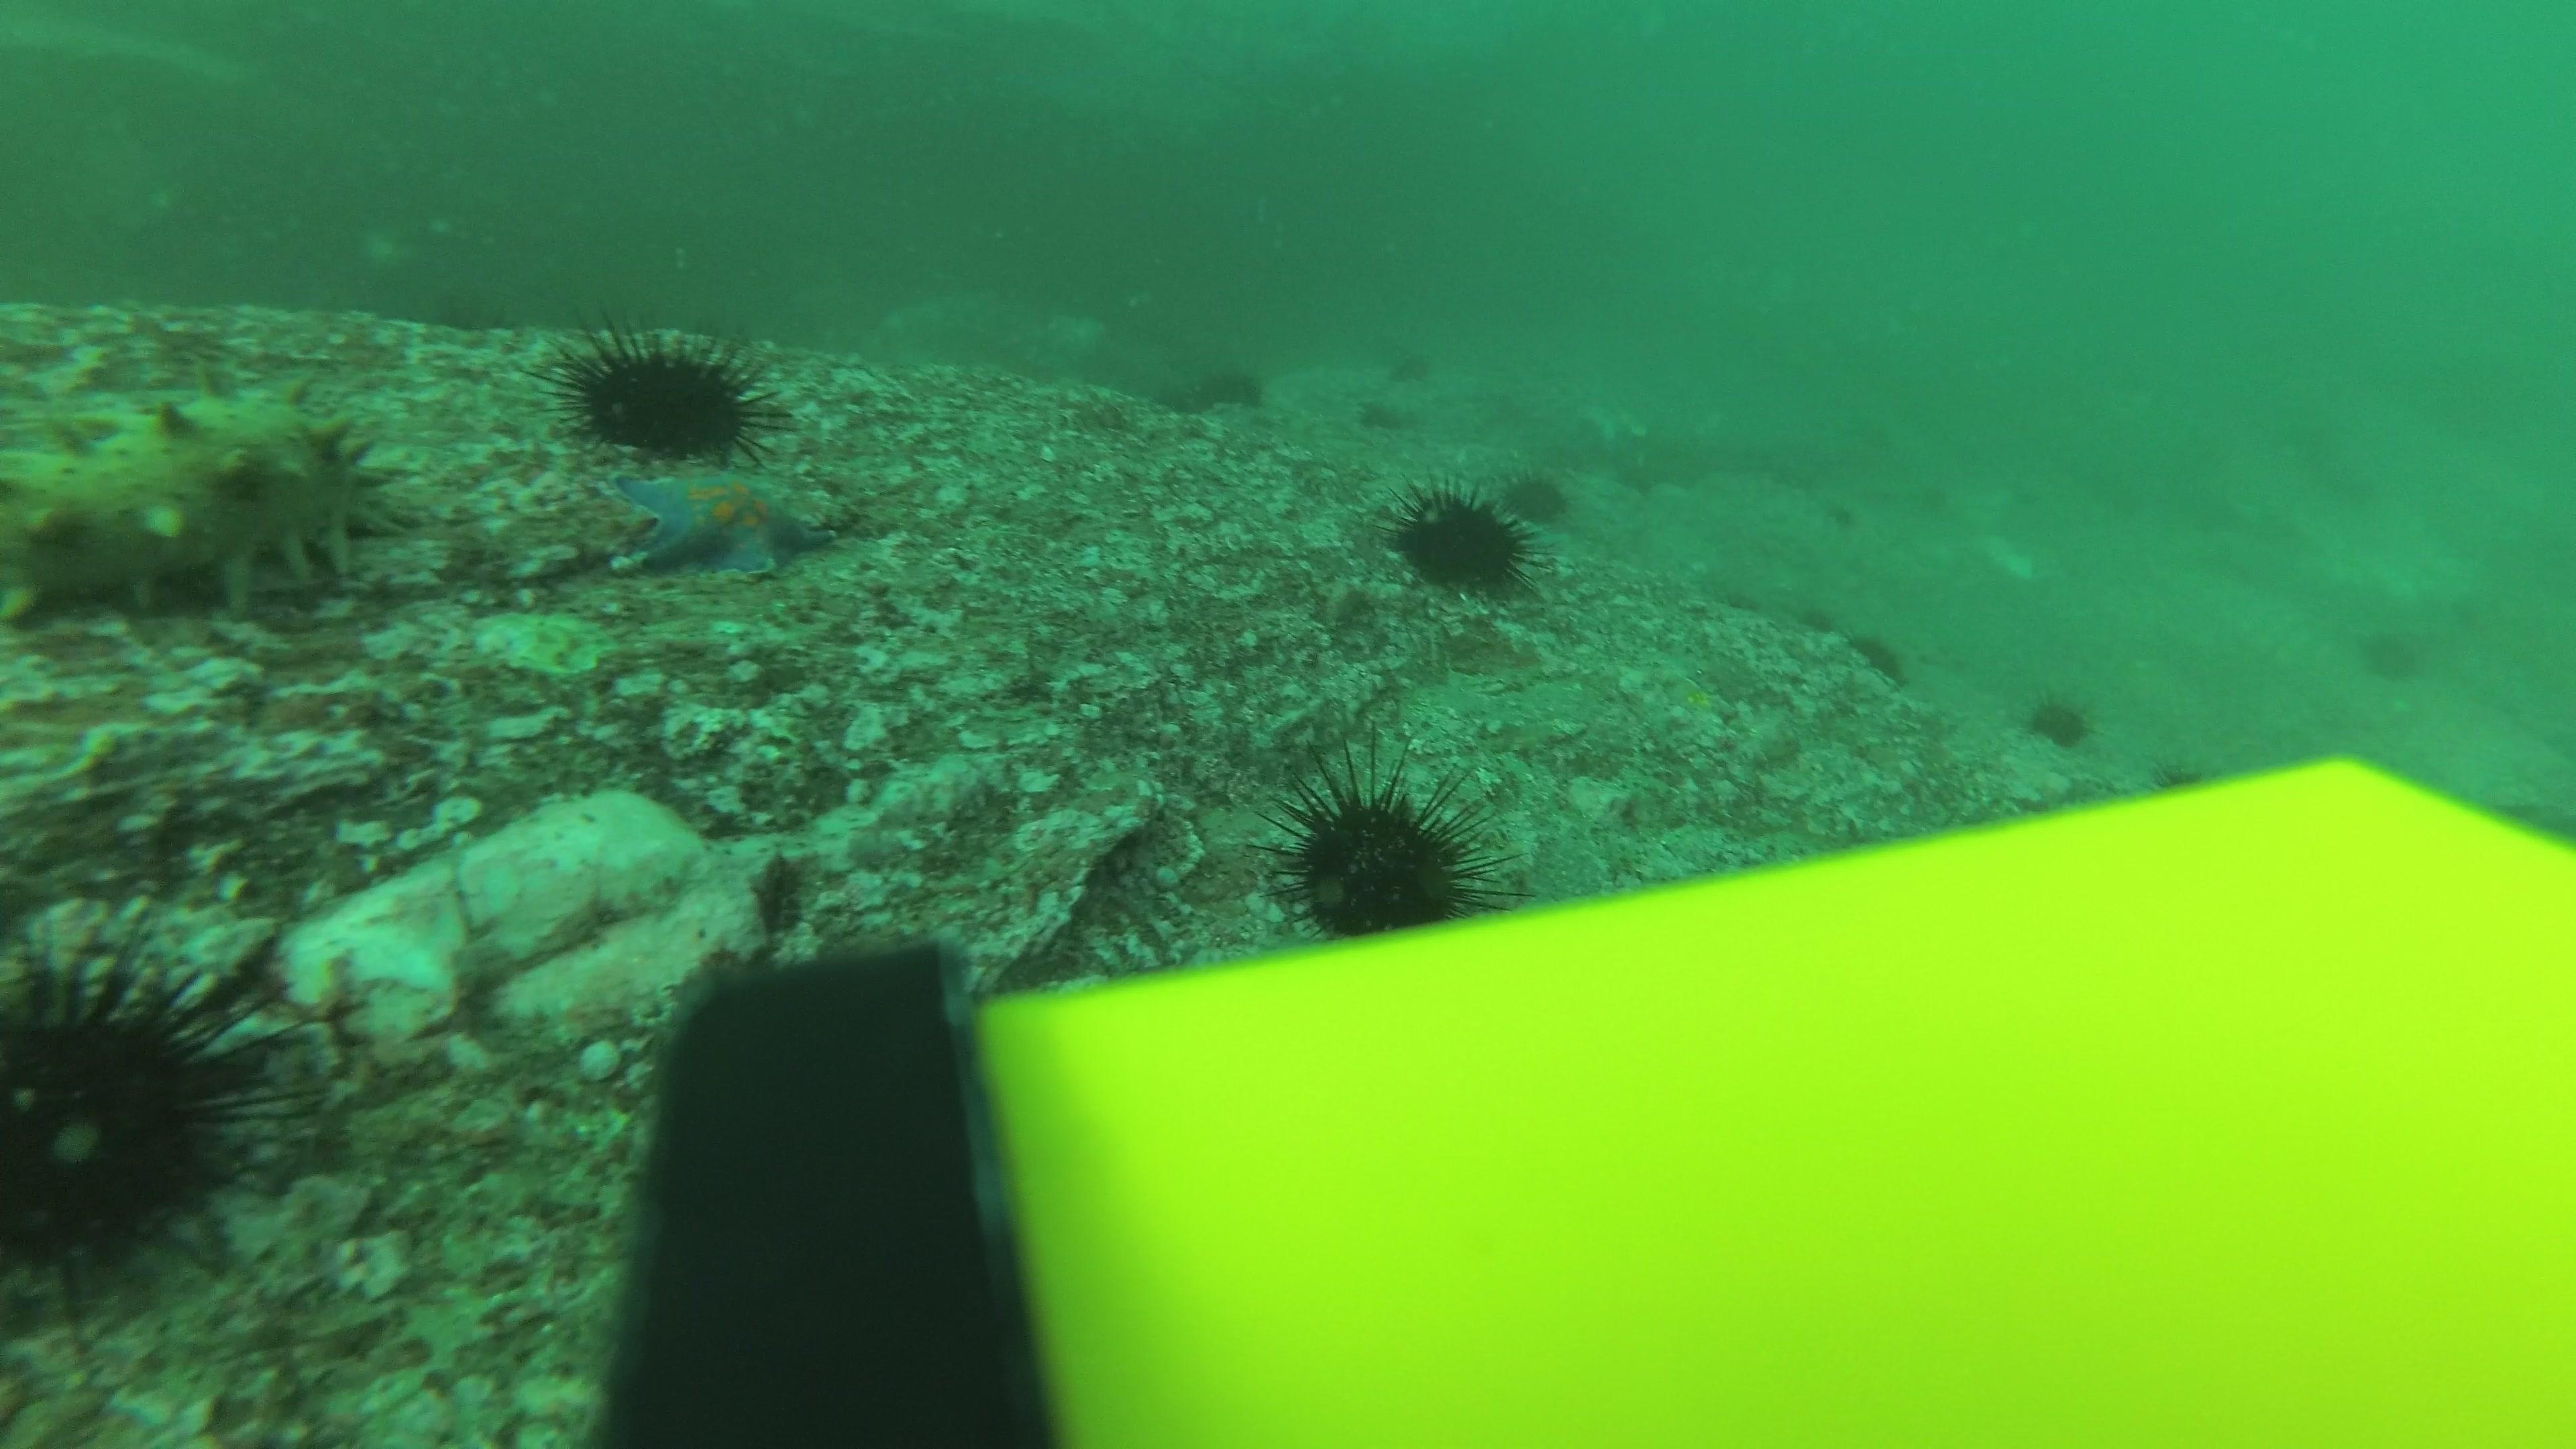echinus: (0, 925, 294, 1302), (1263, 747, 1502, 936), (554, 320, 775, 464), (1391, 478, 1536, 598), (2353, 616, 2429, 685), (1845, 628, 1921, 697), (2146, 745, 2220, 814), (1780, 598, 1854, 667), (1346, 387, 1422, 455), (1371, 336, 1445, 403), (2022, 686, 2097, 750), (1500, 465, 1571, 527), (1196, 357, 1267, 414), (1608, 460, 1665, 506), (1819, 490, 1874, 536), (1711, 586, 1767, 630), (1909, 479, 1959, 522)
holothurian: (0, 384, 407, 623)
starfish: (607, 456, 842, 582), (1651, 667, 1739, 727)
